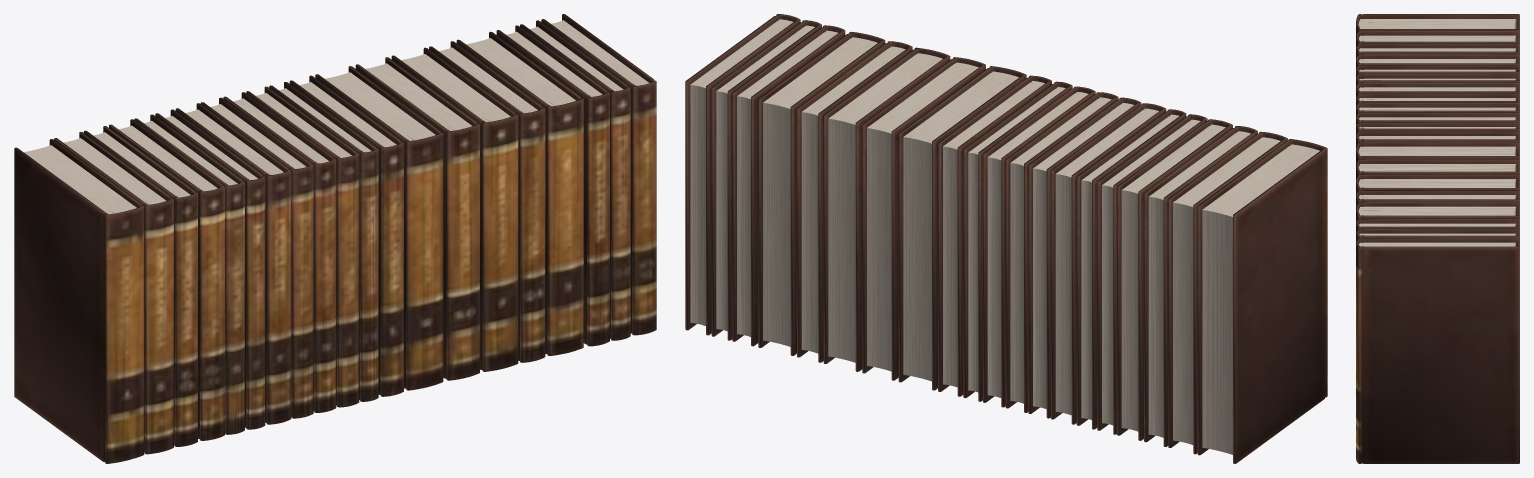
Rendered from book_encyclopedia_set_01.glb.
3 renders of one model, left to right at view 1: azimuth 30°, elevation 25°; view 2: azimuth 150°, elevation 25°; view 3: azimuth 270°, elevation 25°, orthographic. The views are drawn at different scales.
Parts seen in each view (by area): view 1: book_encyclopedia_set_01_book01, book_encyclopedia_set_01_book13, book_encyclopedia_set_01_book15, book_encyclopedia_set_01_book17, book_encyclopedia_set_01_book14, book_encyclopedia_set_01_book02, book_encyclopedia_set_01_book16, book_encyclopedia_set_01_book04, book_encyclopedia_set_01_book18, book_encyclopedia_set_01_book20, book_encyclopedia_set_01_book07, book_encyclopedia_set_01_book12 (+8 smaller); view 2: book_encyclopedia_set_01_book01, book_encyclopedia_set_01_book13, book_encyclopedia_set_01_book15, book_encyclopedia_set_01_book17, book_encyclopedia_set_01_book14, book_encyclopedia_set_01_book02, book_encyclopedia_set_01_book04, book_encyclopedia_set_01_book16, book_encyclopedia_set_01_book18, book_encyclopedia_set_01_book20, book_encyclopedia_set_01_book07, book_encyclopedia_set_01_book12 (+8 smaller); view 3: book_encyclopedia_set_01_book20, book_encyclopedia_set_01_book13, book_encyclopedia_set_01_book01, book_encyclopedia_set_01_book17, book_encyclopedia_set_01_book15, book_encyclopedia_set_01_book14, book_encyclopedia_set_01_book02, book_encyclopedia_set_01_book16, book_encyclopedia_set_01_book03, book_encyclopedia_set_01_book04, book_encyclopedia_set_01_book12, book_encyclopedia_set_01_book07 (+8 smaller).
Part boxes in pixels (<box>): book_encyclopedia_set_01_book01: <box>14,139,144,463</box>; book_encyclopedia_set_01_book13: <box>315,66,443,390</box>; book_encyclopedia_set_01_book15: <box>391,47,518,371</box>; book_encyclopedia_set_01_book17: <box>456,31,583,355</box>; book_encyclopedia_set_01_book14: <box>355,57,479,380</box>; book_encyclopedia_set_01_book02: <box>54,132,173,454</box>; book_encyclopedia_set_01_book16: <box>429,41,545,362</box>; book_encyclopedia_set_01_book04: <box>109,119,224,440</box>; book_encyclopedia_set_01_book18: <box>496,25,609,346</box>; book_encyclopedia_set_01_book20: <box>541,14,656,335</box>; book_encyclopedia_set_01_book07: <box>175,103,291,424</box>; book_encyclopedia_set_01_book12: <box>289,75,403,396</box>; book_encyclopedia_set_01_book01: <box>1197,139,1327,463</box>; book_encyclopedia_set_01_book13: <box>898,66,1026,390</box>; book_encyclopedia_set_01_book15: <box>823,47,950,371</box>; book_encyclopedia_set_01_book17: <box>758,32,885,355</box>; book_encyclopedia_set_01_book14: <box>862,57,985,380</box>; book_encyclopedia_set_01_book02: <box>1168,131,1287,454</box>; book_encyclopedia_set_01_book04: <box>1117,119,1232,440</box>; book_encyclopedia_set_01_book16: <box>797,41,912,362</box>; book_encyclopedia_set_01_book18: <box>732,25,845,346</box>; book_encyclopedia_set_01_book20: <box>685,14,800,335</box>; book_encyclopedia_set_01_book07: <box>1051,103,1166,424</box>; book_encyclopedia_set_01_book12: <box>938,75,1051,396</box>; book_encyclopedia_set_01_book20: <box>1356,238,1519,463</box>; book_encyclopedia_set_01_book13: <box>1356,142,1519,166</box>; book_encyclopedia_set_01_book01: <box>1356,14,1519,35</box>; book_encyclopedia_set_01_book17: <box>1356,202,1519,222</box>; book_encyclopedia_set_01_book15: <box>1356,174,1519,194</box>; book_encyclopedia_set_01_book14: <box>1356,159,1519,181</box>; book_encyclopedia_set_01_book02: <box>1356,30,1519,47</box>; book_encyclopedia_set_01_book16: <box>1356,190,1519,208</box>; book_encyclopedia_set_01_book03: <box>1356,43,1519,59</box>; book_encyclopedia_set_01_book04: <box>1356,54,1519,77</box>; book_encyclopedia_set_01_book12: <box>1356,131,1519,149</box>; book_encyclopedia_set_01_book07: <box>1356,82,1519,95</box>.
Size of the model in its own units: 0.5513 by 0.2374 by 0.1631.
Materials: 2 (2 with a texture image).
